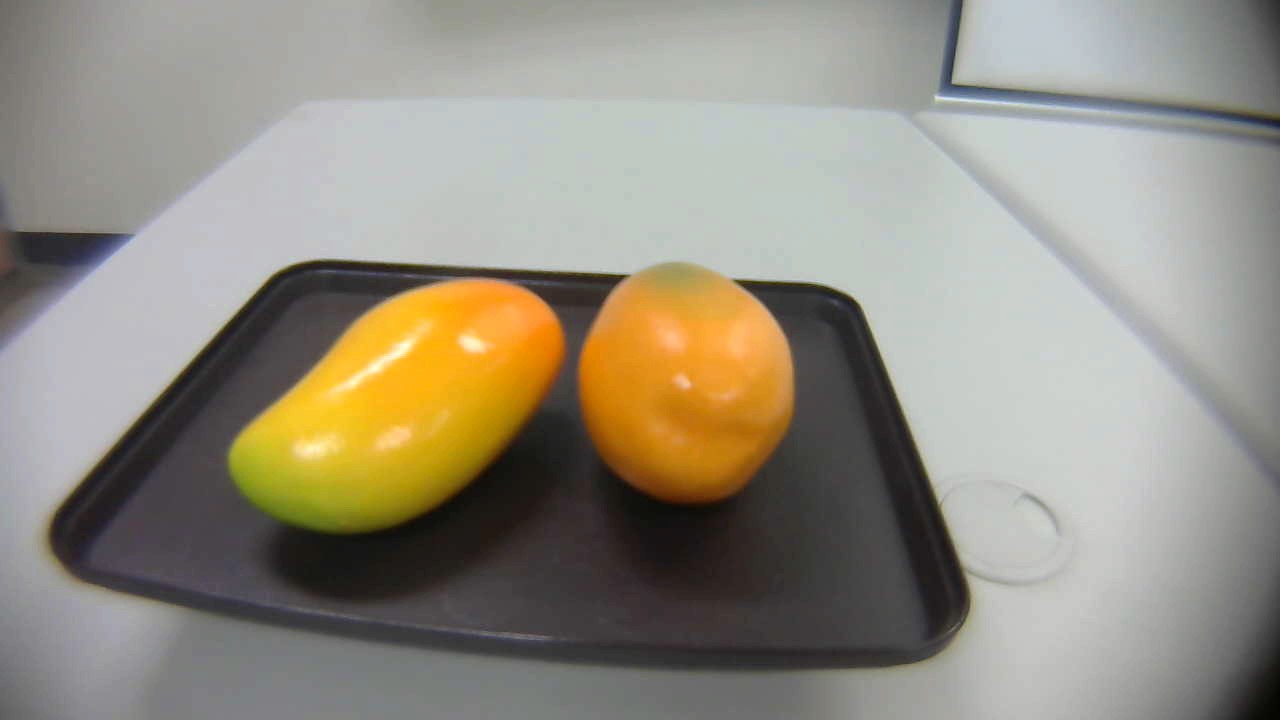papya: (565, 261, 802, 509)
yellow mango: (215, 272, 570, 532)
